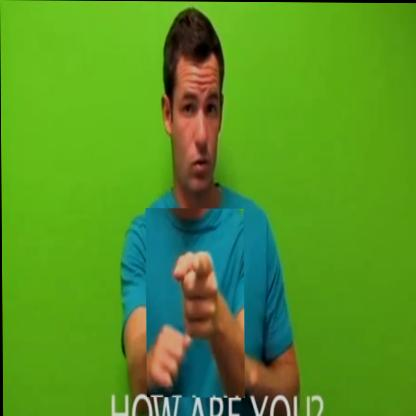HowAreYou: (146, 208, 245, 397)
